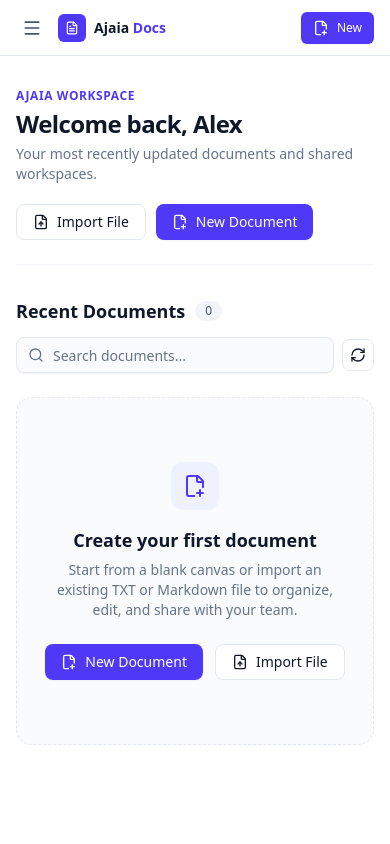
Ajaia Docs Dashboard & Dialogs › supports responsive mobile navigation drawer and empty shared state
The width and height of the screenshot is (390, 844).
Check: the heading "Create your first document" is shown, box [73,526,317,554]
Click the button named "Open navigation menu": [32, 28] box [16,12,48,44]
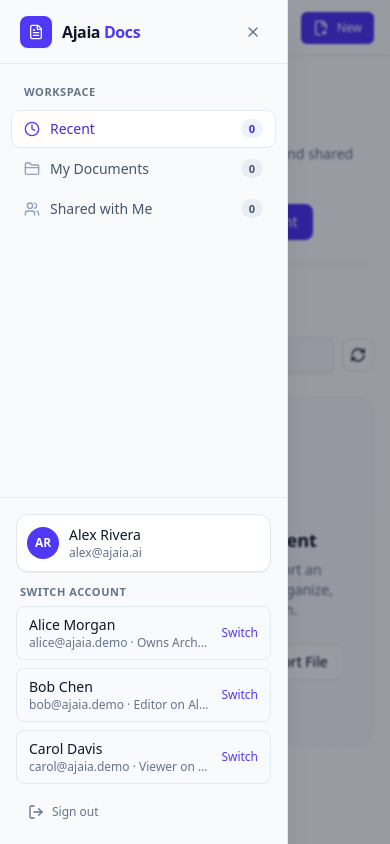
Check: the button named "Close navigation menu" is shown, box [239,18,267,46]
Click the button "Shared with Me 0": [144, 208] box [12,190,275,226]
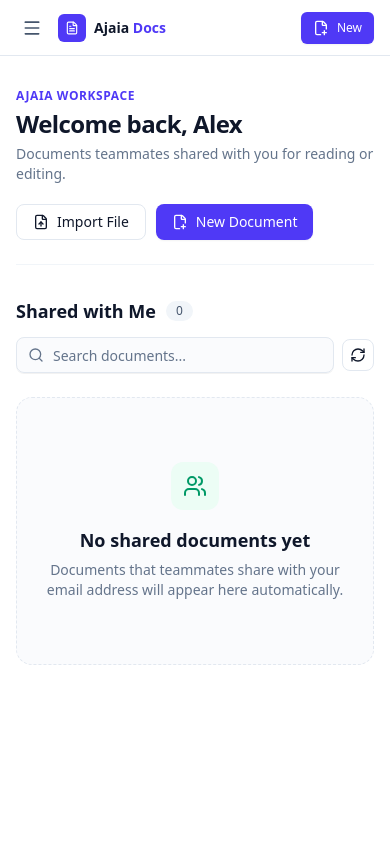
Check: the heading "No shared documents yet" is shown, box [80,526,310,554]
